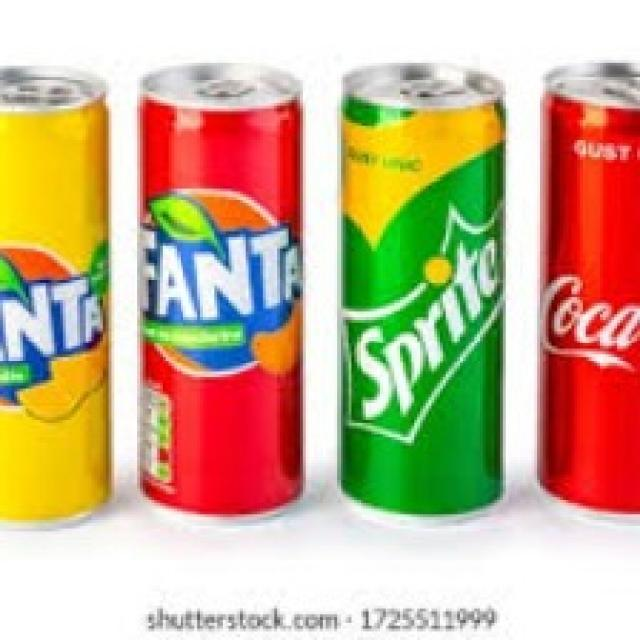metel: (110, 32, 316, 519), (339, 54, 510, 523), (1, 75, 113, 528), (534, 63, 640, 515)
